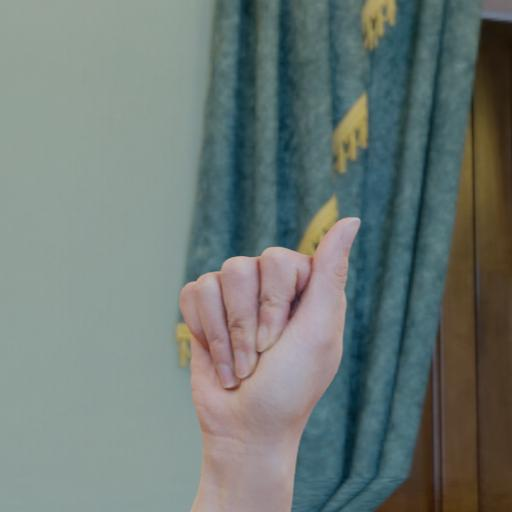A: (136, 196, 384, 496)
